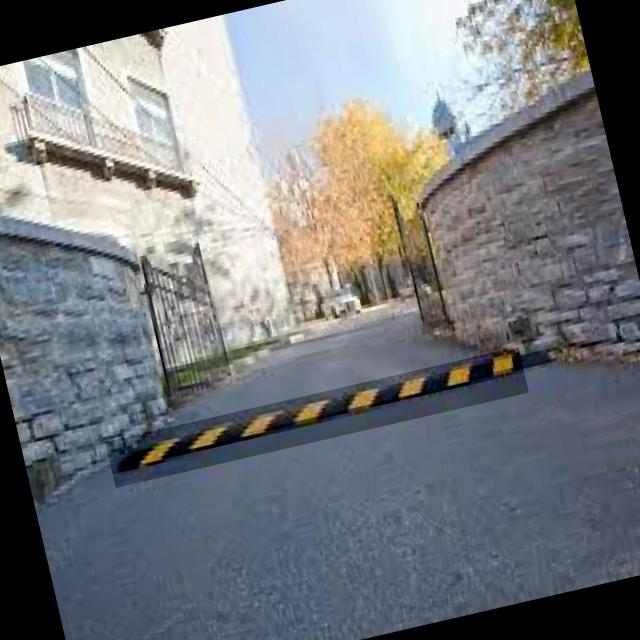bump: (104, 346, 528, 487)
